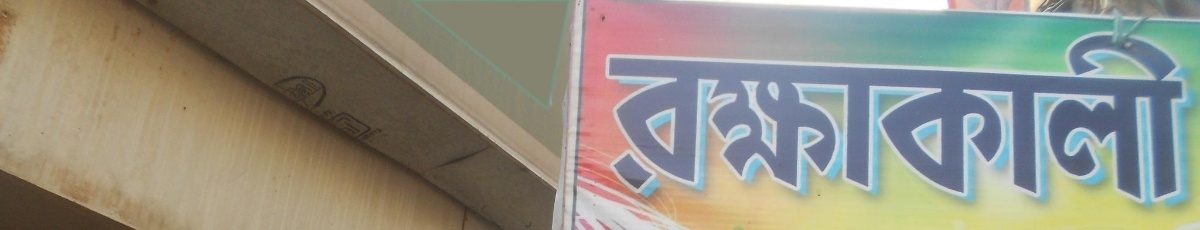text: (609, 30, 624, 204), (625, 30, 640, 204), (641, 30, 656, 204), (657, 30, 672, 204), (673, 30, 688, 204), (689, 30, 704, 204), (705, 30, 720, 204), (721, 30, 736, 204), (737, 30, 752, 204), (753, 30, 768, 204), (769, 30, 784, 204), (785, 30, 800, 204), (801, 30, 816, 204), (817, 30, 832, 204), (833, 30, 848, 204), (849, 30, 864, 204), (865, 30, 880, 204), (881, 30, 896, 204), (897, 30, 912, 204), (913, 30, 928, 204), (929, 30, 944, 204), (945, 30, 960, 204), (961, 30, 976, 204), (977, 30, 992, 204), (993, 30, 1008, 204), (1009, 30, 1024, 204), (1025, 30, 1040, 204), (1041, 30, 1056, 204), (1057, 30, 1072, 204), (1073, 30, 1088, 204), (1089, 30, 1104, 204), (1105, 30, 1120, 204), (1121, 30, 1136, 204), (1137, 30, 1152, 204), (1153, 30, 1168, 204), (1169, 30, 1184, 204), (598, 30, 608, 204), (273, 67, 288, 149), (289, 67, 304, 149), (305, 67, 320, 149), (321, 67, 336, 149), (337, 67, 352, 149), (353, 67, 368, 149), (369, 67, 384, 149), (1185, 30, 1190, 204), (262, 67, 272, 149)
